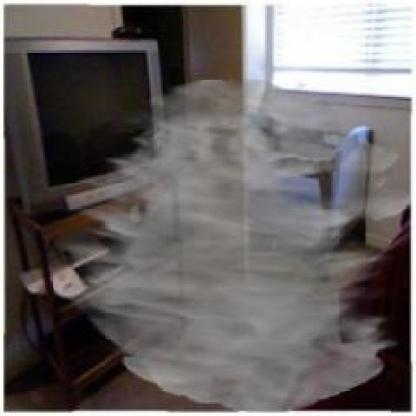Smoke: (57, 78, 413, 413)
